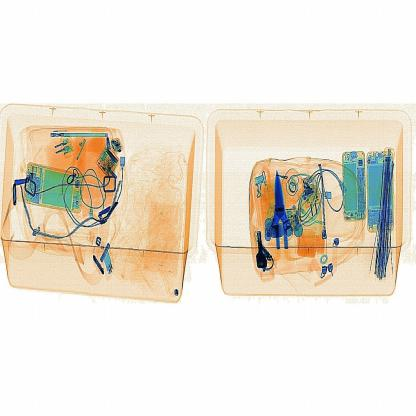gun: (261, 160, 314, 266)
